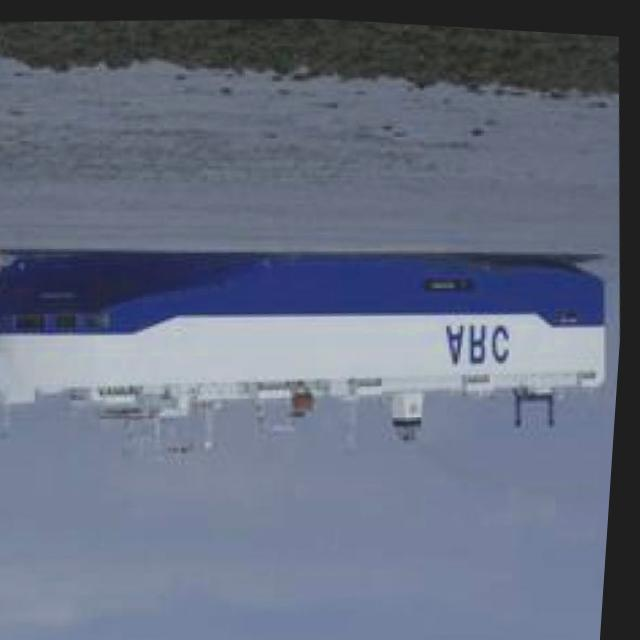ship2: (0, 243, 611, 459)
